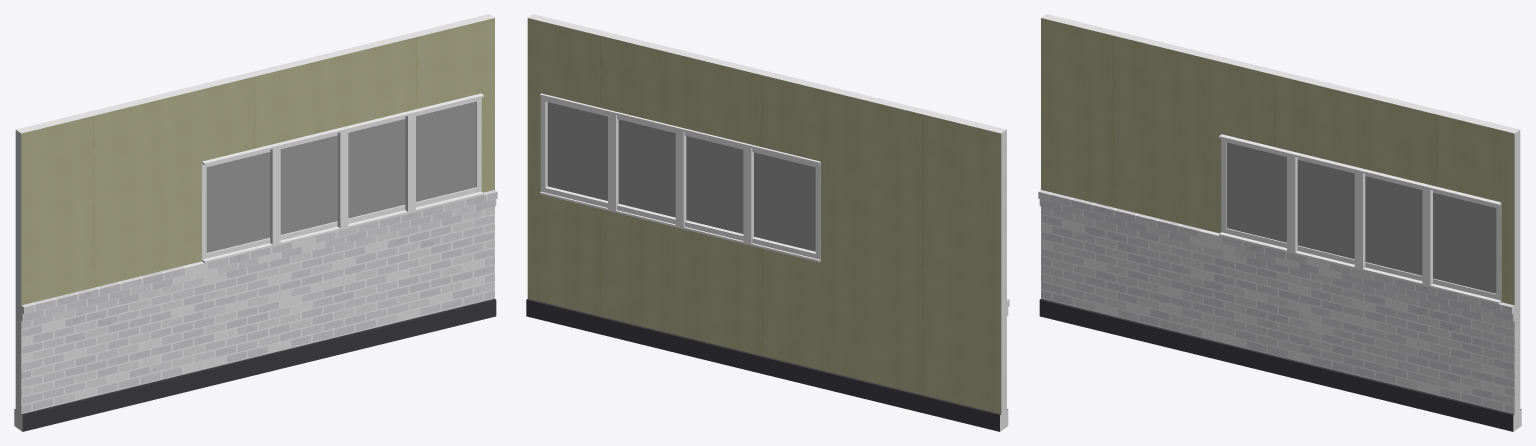
Rendered from SM_Buildings_WallWindow_5x3_02.fbx.
3 renders of one model, left to right at view 1: azimuth 30°, elevation 25°; view 2: azimuth 150°, elevation 25°; view 3: azimuth 330°, elevation 25°, orthographic.
Visible parts, largest first — view 1: SM_Buildings_WallWindow_5x3_02, SM_Buildings_WallWindow_5x3_02_Glass; view 2: SM_Buildings_WallWindow_5x3_02, SM_Buildings_WallWindow_5x3_02_Glass; view 3: SM_Buildings_WallWindow_5x3_02, SM_Buildings_WallWindow_5x3_02_Glass.
Part boxes in pixels (x1=…): SM_Buildings_WallWindow_5x3_02: x1=14, y1=14, x2=497, y2=431; SM_Buildings_WallWindow_5x3_02_Glass: x1=206, y1=101, x2=476, y2=252; SM_Buildings_WallWindow_5x3_02: x1=526, y1=14, x2=1009, y2=431; SM_Buildings_WallWindow_5x3_02_Glass: x1=547, y1=102, x2=815, y2=251; SM_Buildings_WallWindow_5x3_02: x1=1038, y1=14, x2=1521, y2=431; SM_Buildings_WallWindow_5x3_02_Glass: x1=1226, y1=142, x2=1496, y2=293.
Size of the model in its own units: 500 by 300 by 17.5.
Materials: 2 (1 with a texture image).
